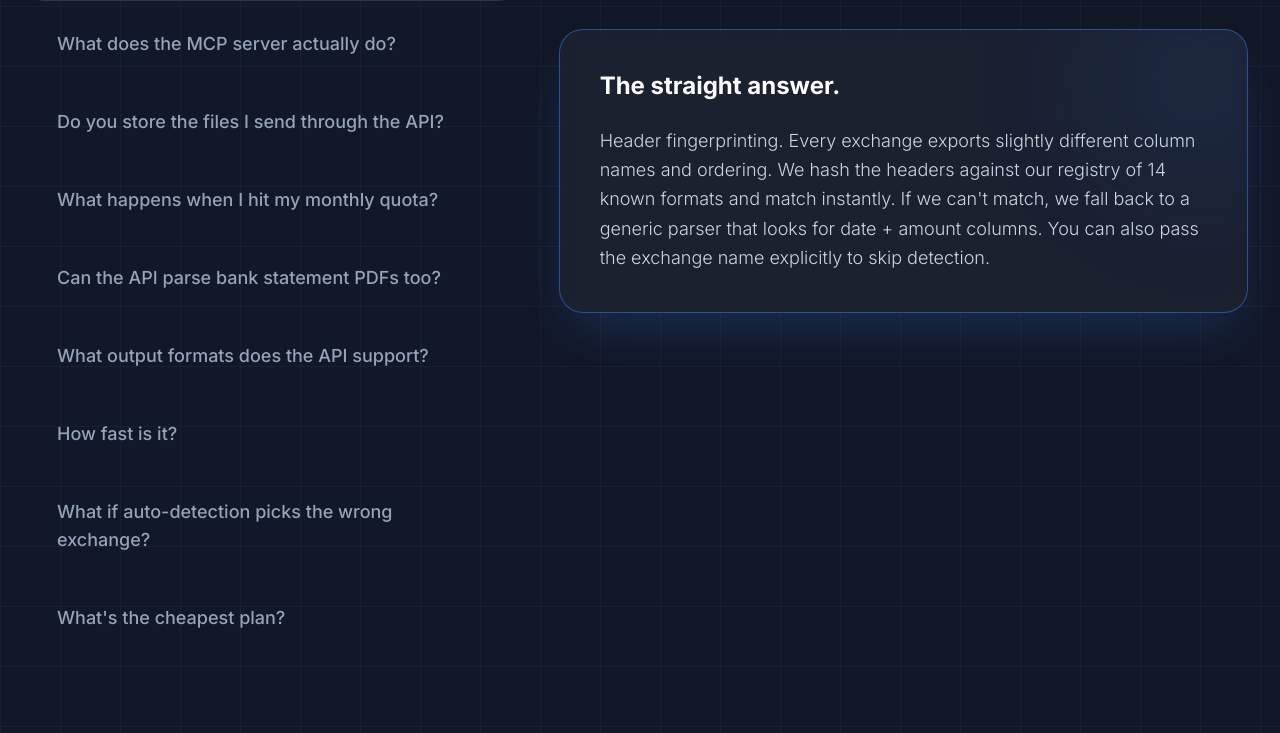
Test case: FAQ Component › Content › mentions pricing
(page scrolled)
Click the button "What's the cheapest plan?": (271, 618) [32,583,511,653]
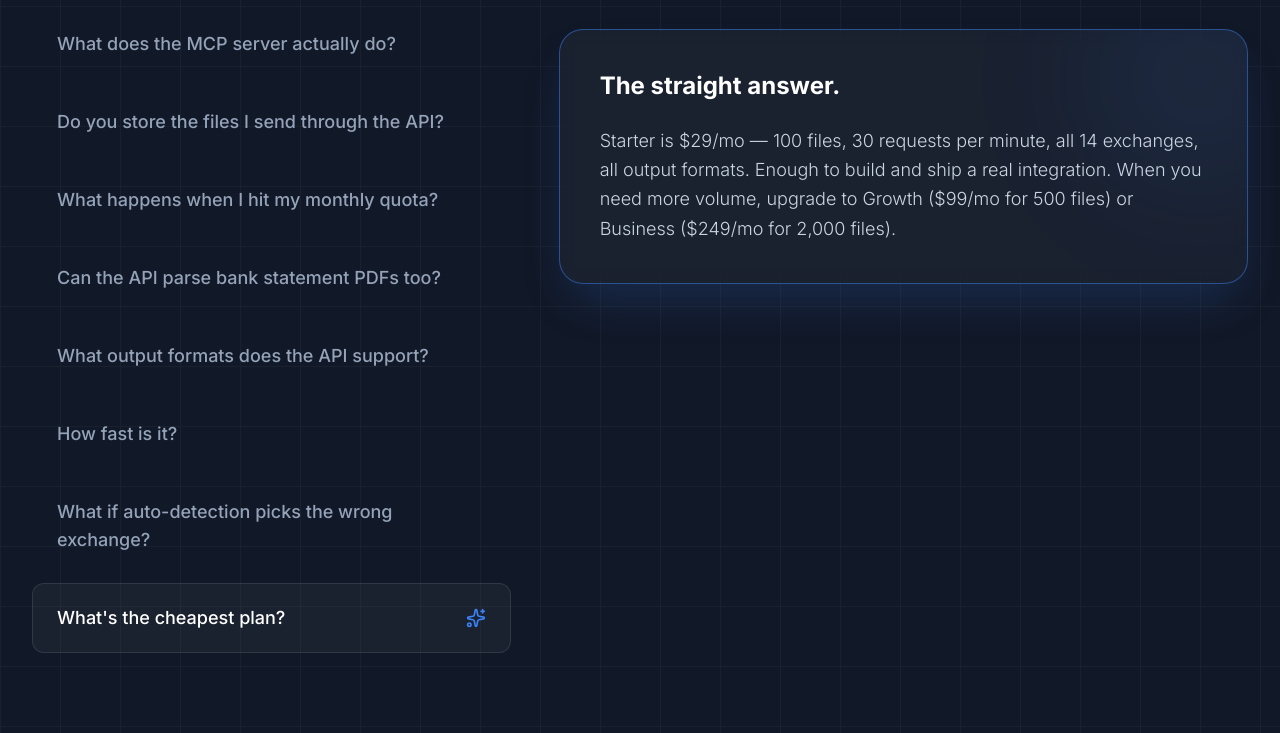
Expected: the text "Starter is $29" is shown, [600,130,1202,239]
